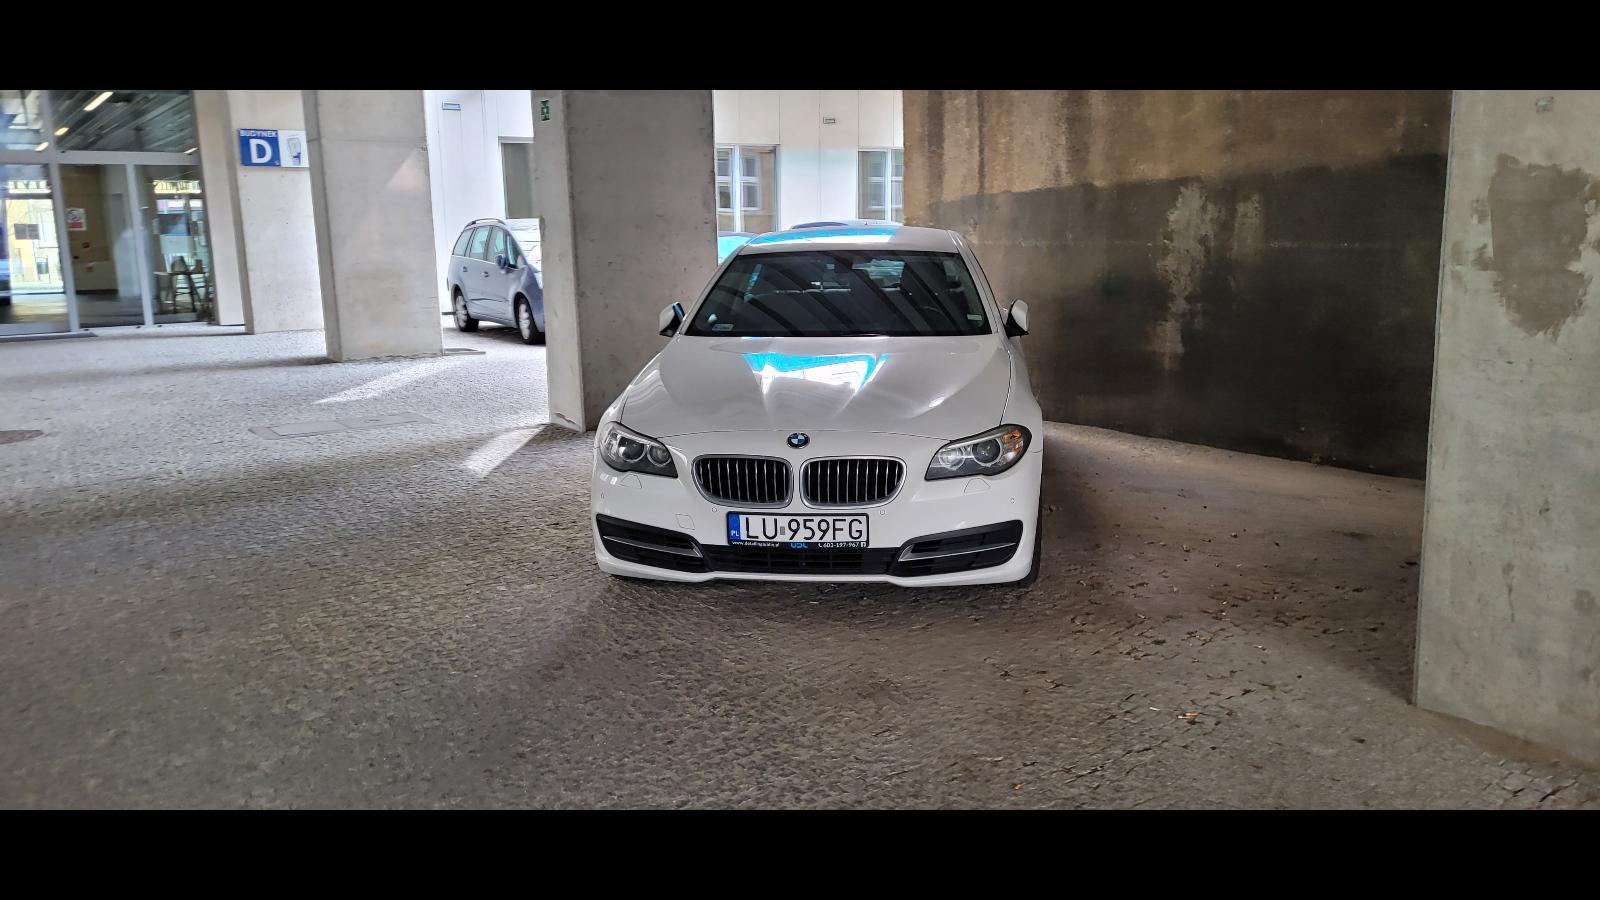plates: (726, 511, 870, 549)
